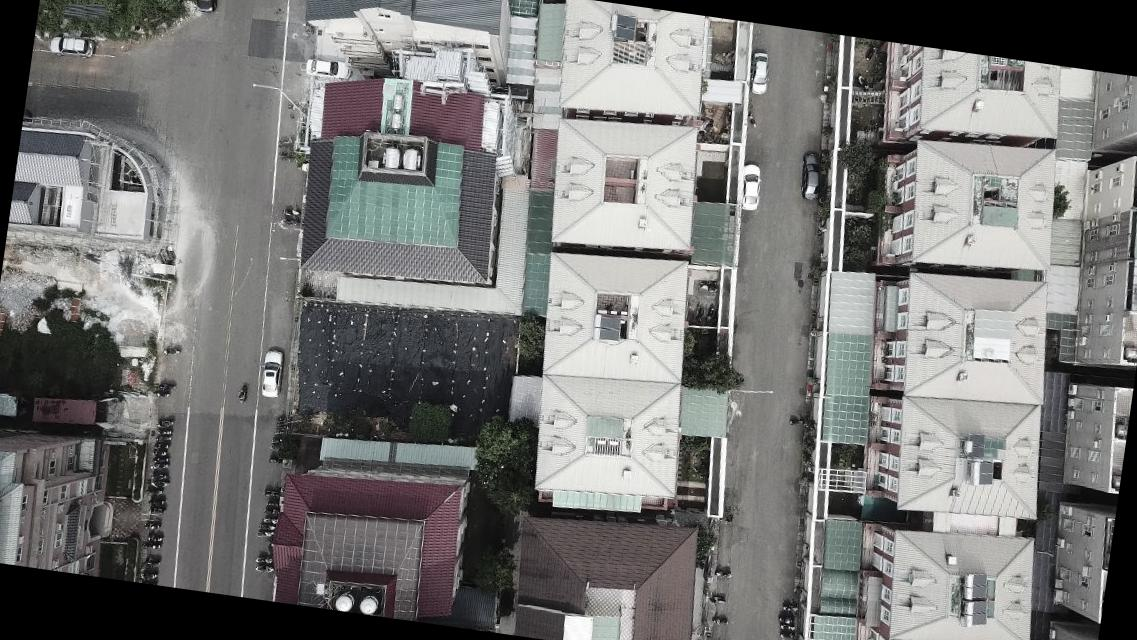vehicle: (256, 346, 288, 401), (795, 149, 827, 201), (733, 162, 764, 214), (47, 29, 96, 60), (744, 49, 775, 98), (301, 54, 353, 82), (190, 0, 223, 16)
